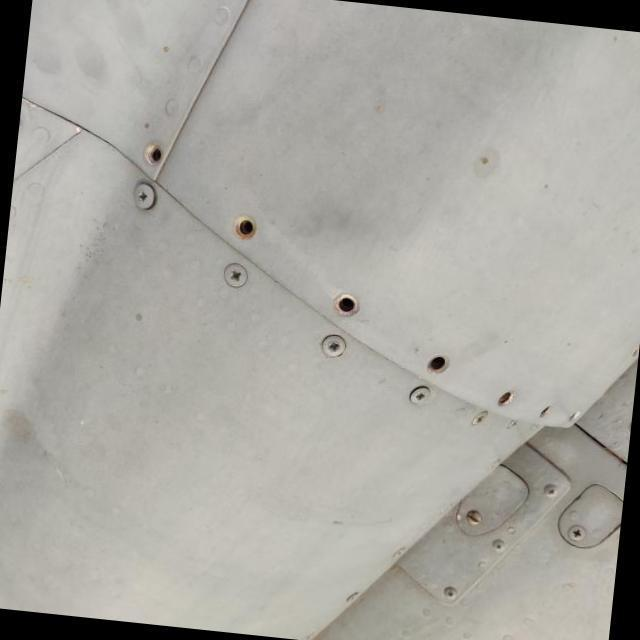Fastener Damage: (209, 193, 276, 259), (312, 272, 372, 331), (404, 336, 464, 394), (122, 124, 180, 178), (482, 378, 528, 422)
